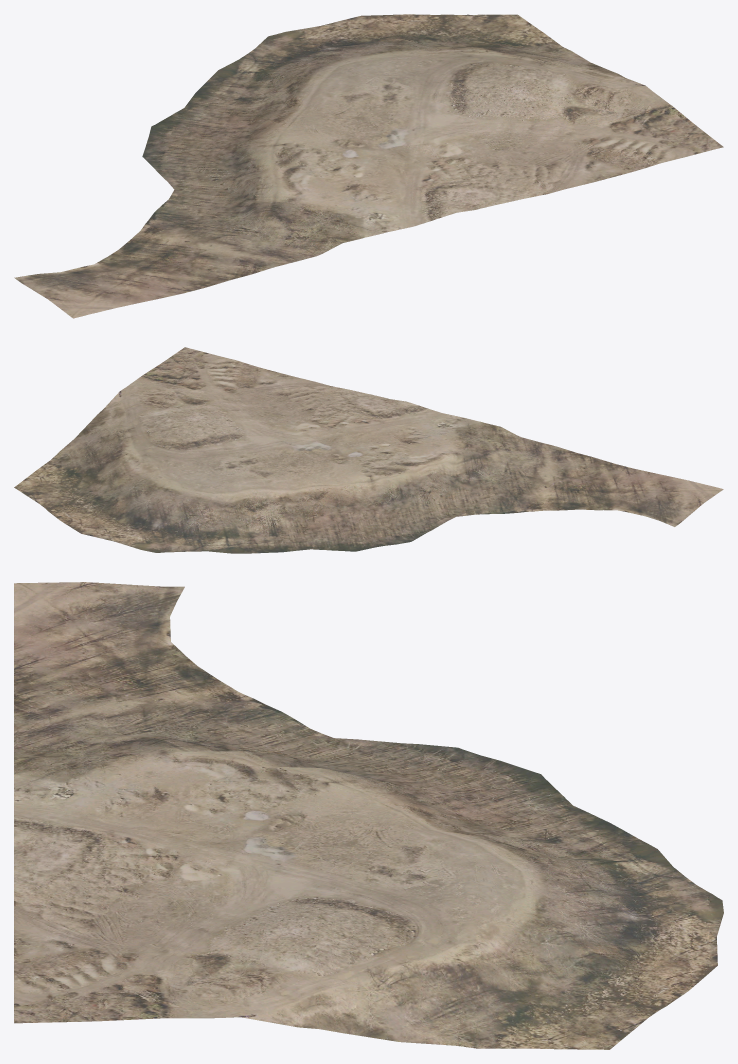
File: CM_Terrain_24489025_6819794.fbx
3 views of the same model, one above another, from view 1: azimuth 30°, elevation 25°; view 2: azimuth 150°, elevation 25°; view 3: azimuth 270°, elevation 25° (orthographic). The views are drawn at different scales.
Parts seen in each view (by area): view 1: CM_Terrain_24489025_6819794_LOD0; view 2: CM_Terrain_24489025_6819794_LOD0; view 3: CM_Terrain_24489025_6819794_LOD0.
Boxes of the visible parts, x1=… form: CM_Terrain_24489025_6819794_LOD0: x1=14, y1=14, x2=723, y2=318; CM_Terrain_24489025_6819794_LOD0: x1=14, y1=347, x2=723, y2=553; CM_Terrain_24489025_6819794_LOD0: x1=14, y1=582, x2=723, y2=1049.
Size of what is drawn, in the model's own units: 205 by 9.3 by 134.
